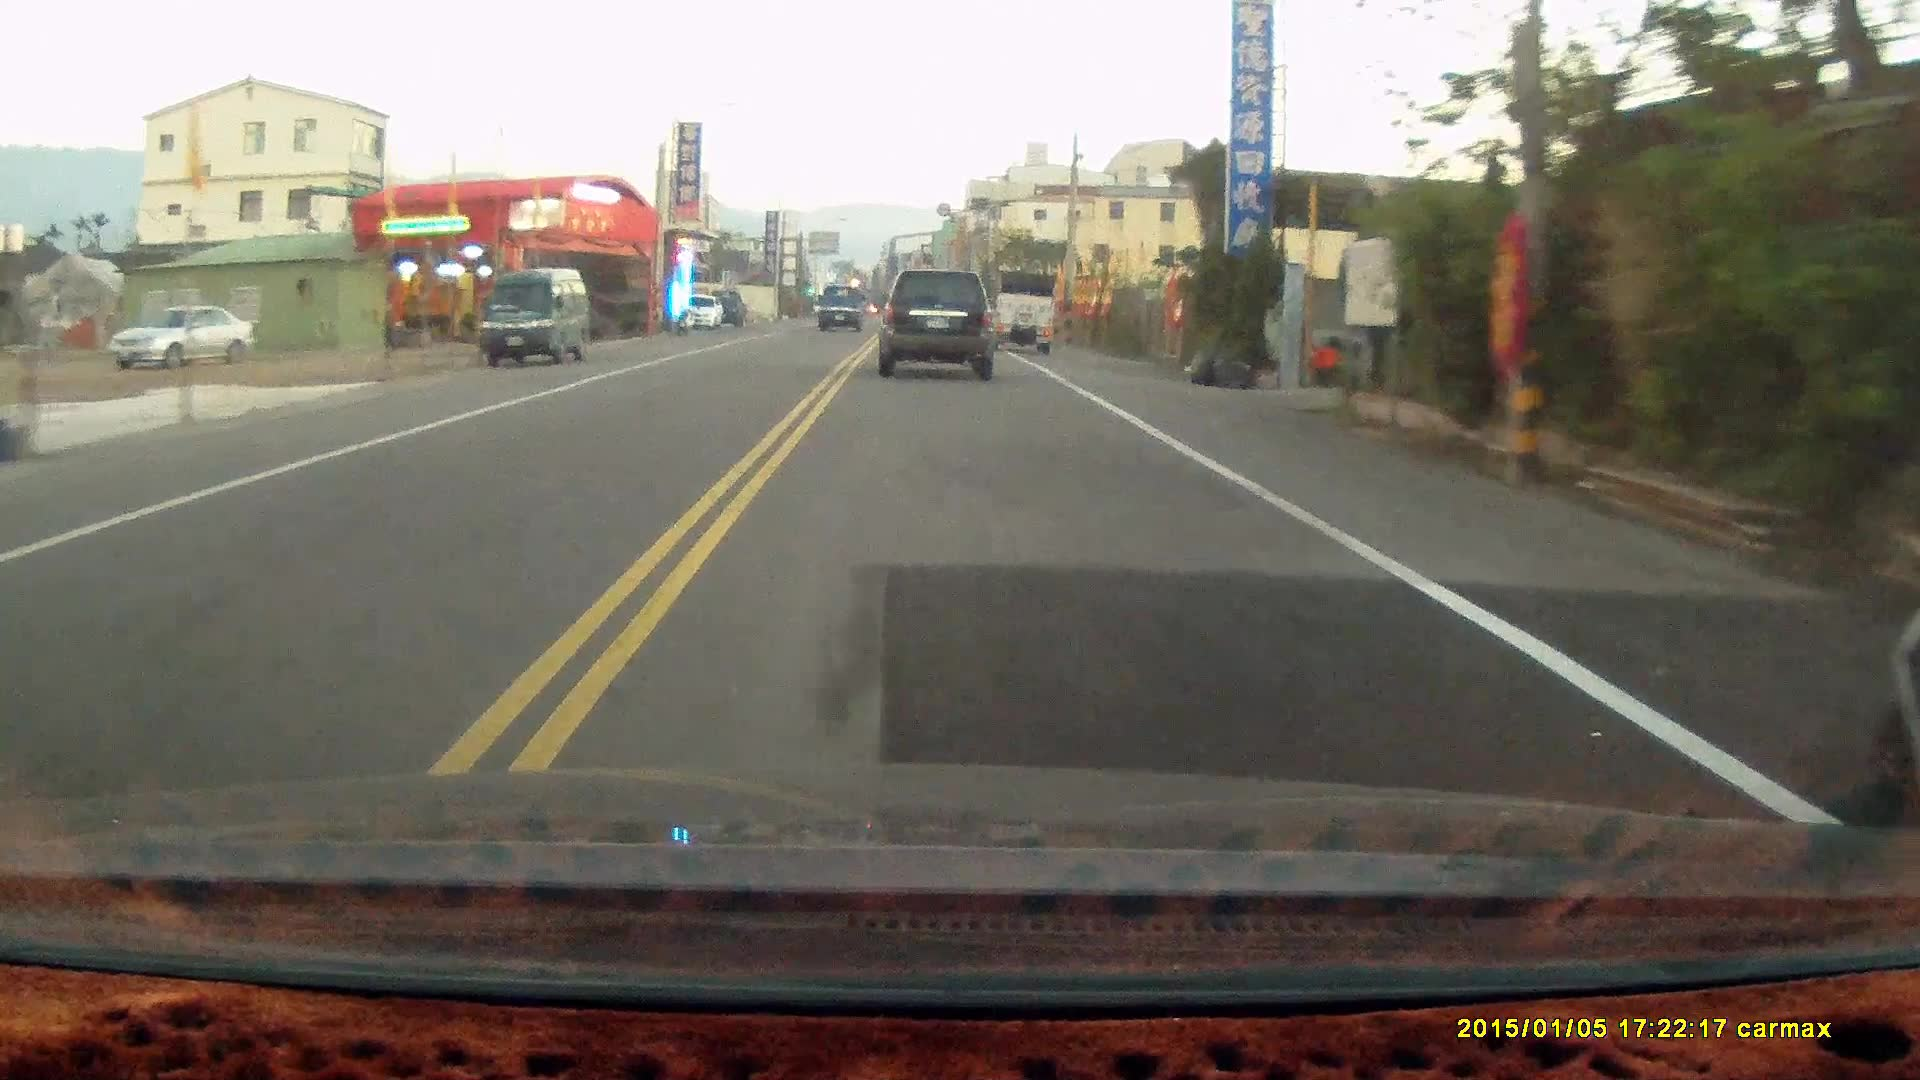vehicle: (869, 266, 1006, 386), (479, 266, 589, 371), (107, 305, 257, 376), (981, 274, 1058, 359), (816, 287, 868, 335)
